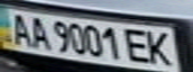0: (66, 20, 84, 56), (84, 23, 103, 57)
1: (100, 24, 124, 61)
9: (48, 18, 72, 53)
A: (3, 11, 33, 47), (24, 15, 51, 49)
E: (121, 27, 154, 64)
K: (142, 29, 178, 69)
